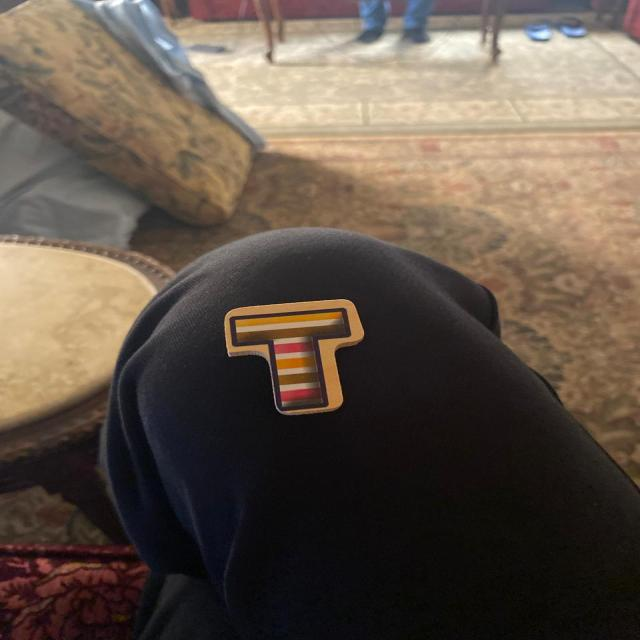T: (225, 300, 363, 414)
